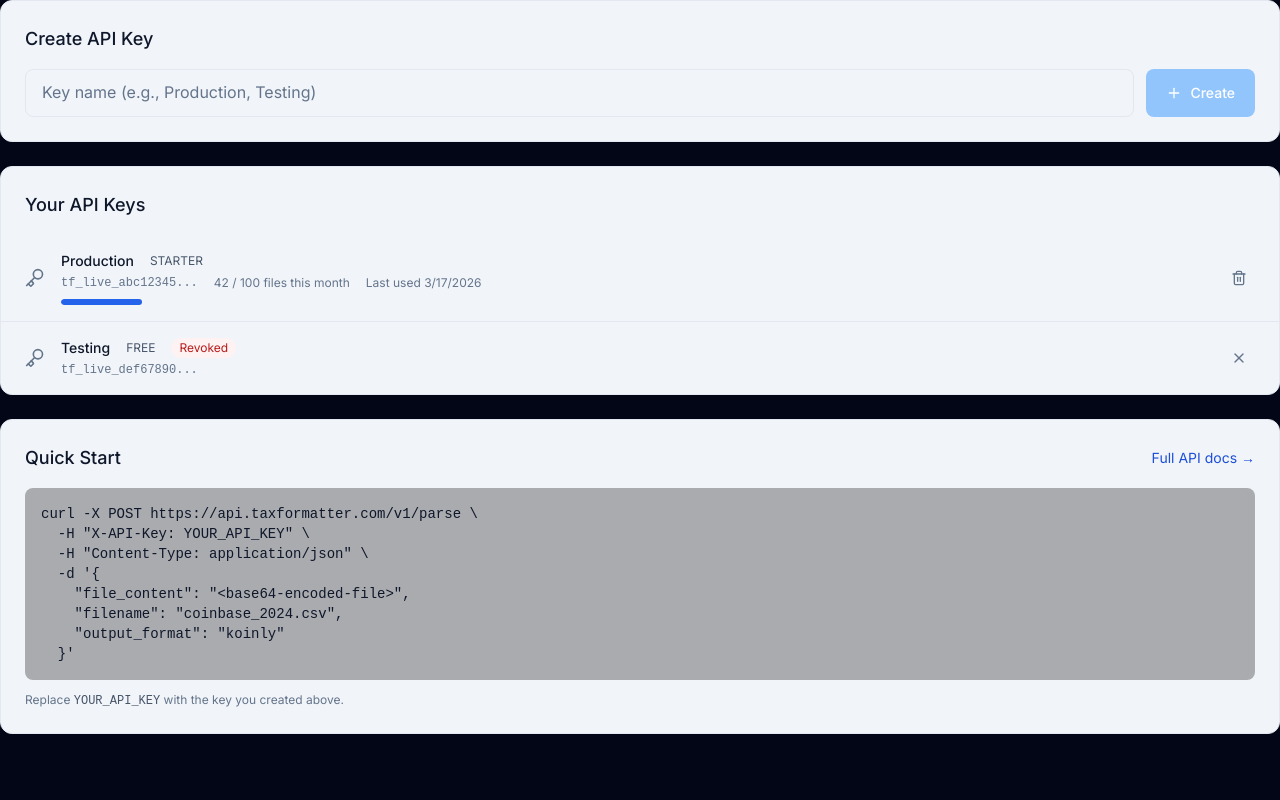
ApiKeyManager › Create Flow › creates key on button click
Expected: the heading "Create API Key" is shown, [25,28,153,49]
Type "New Key" into the field with placeholder "Key name (e.g., Production, Testing)".
click(580, 93); type("New Key")  # box [25,69,1134,117]
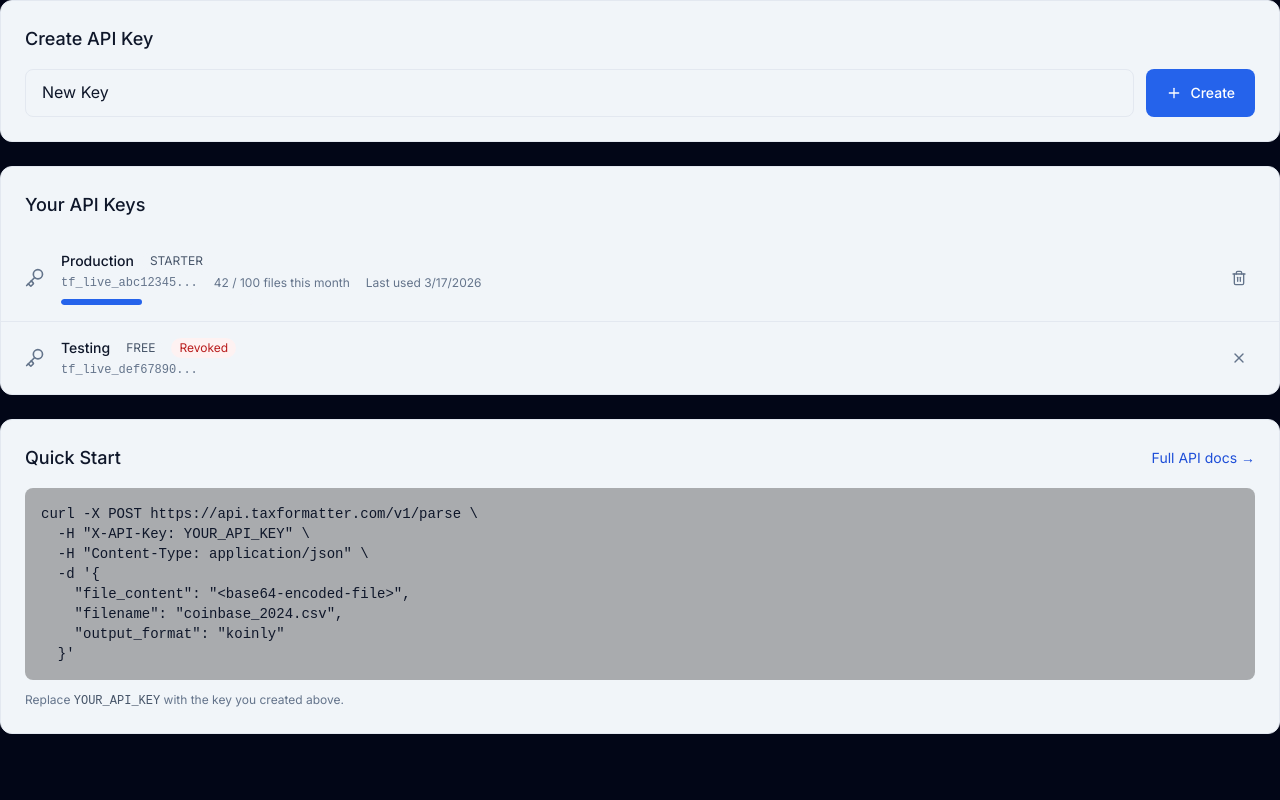
Click the button "Create".
click(1201, 93)  # box [1146,69,1255,117]
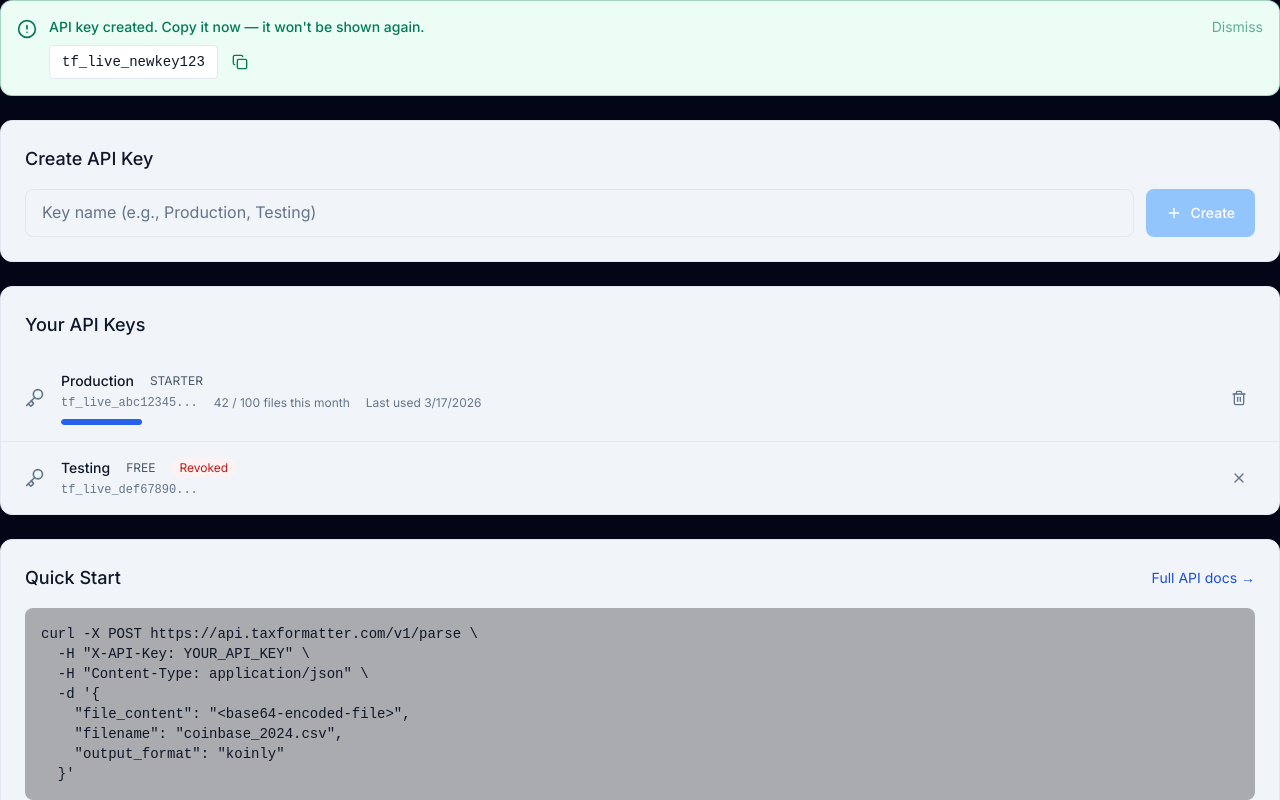
Expected: the text "tf_live_newkey123" is shown, [49,45,218,79]
